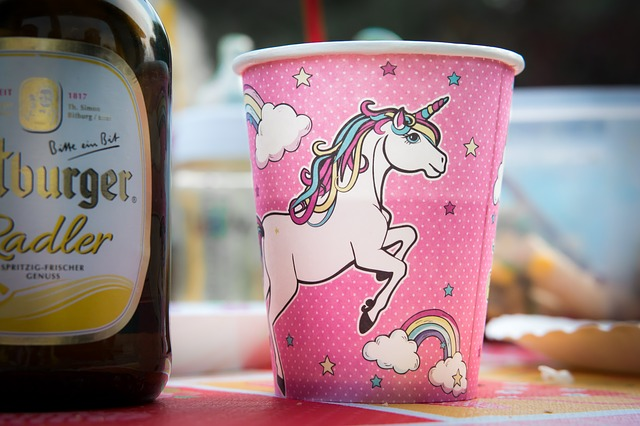cup: (216, 25, 535, 413)
